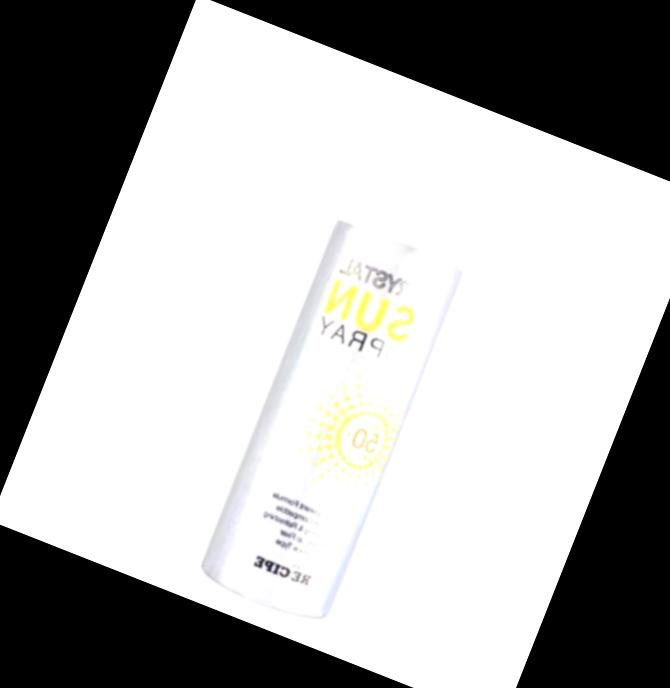cosmetic: (191, 95, 511, 627)
